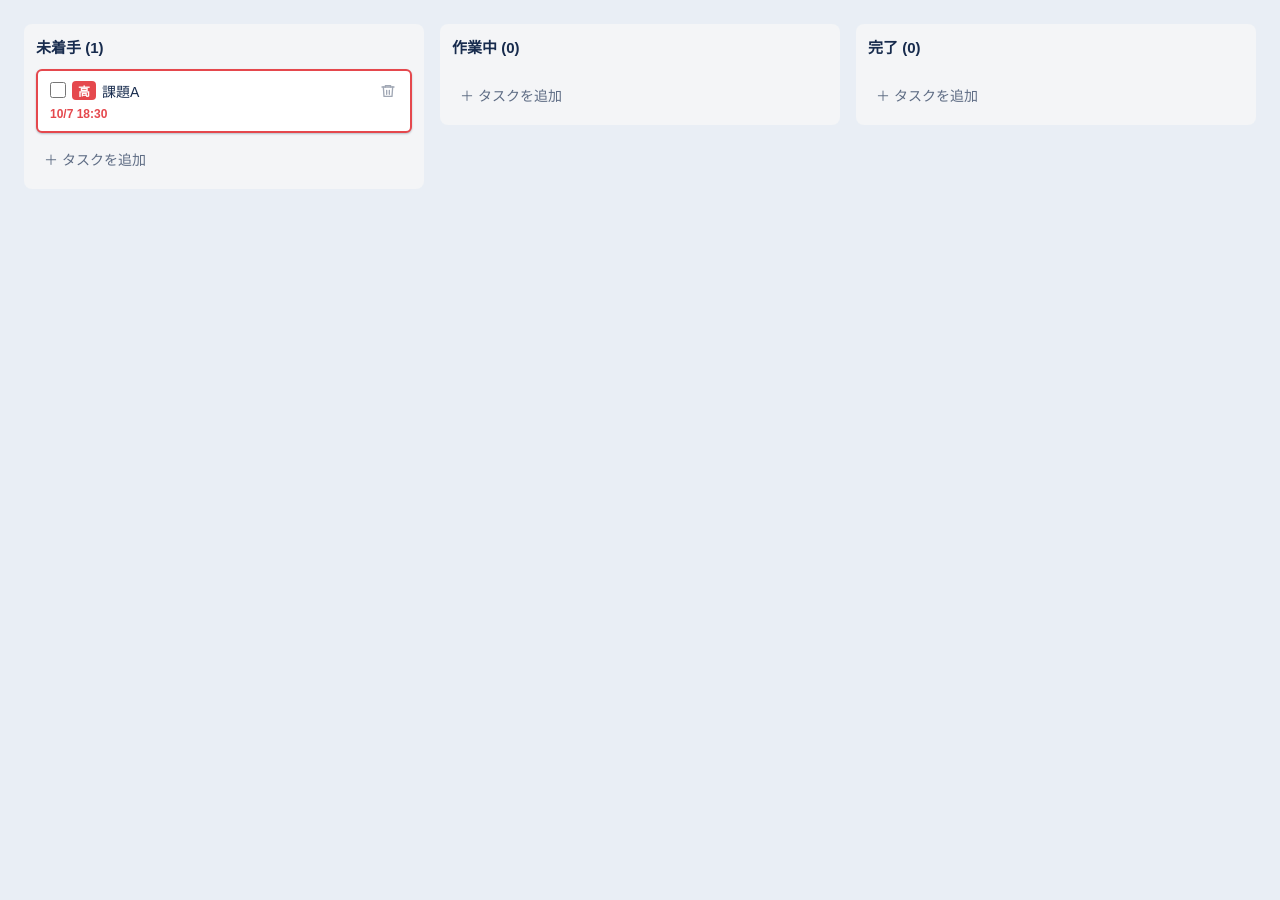
Scenario: 期限を空にして保存すると、期限の欄が表示されなくなる
Click the button with aria-label "課題A を編集".
click(121, 92)  # box [36,69,412,133]
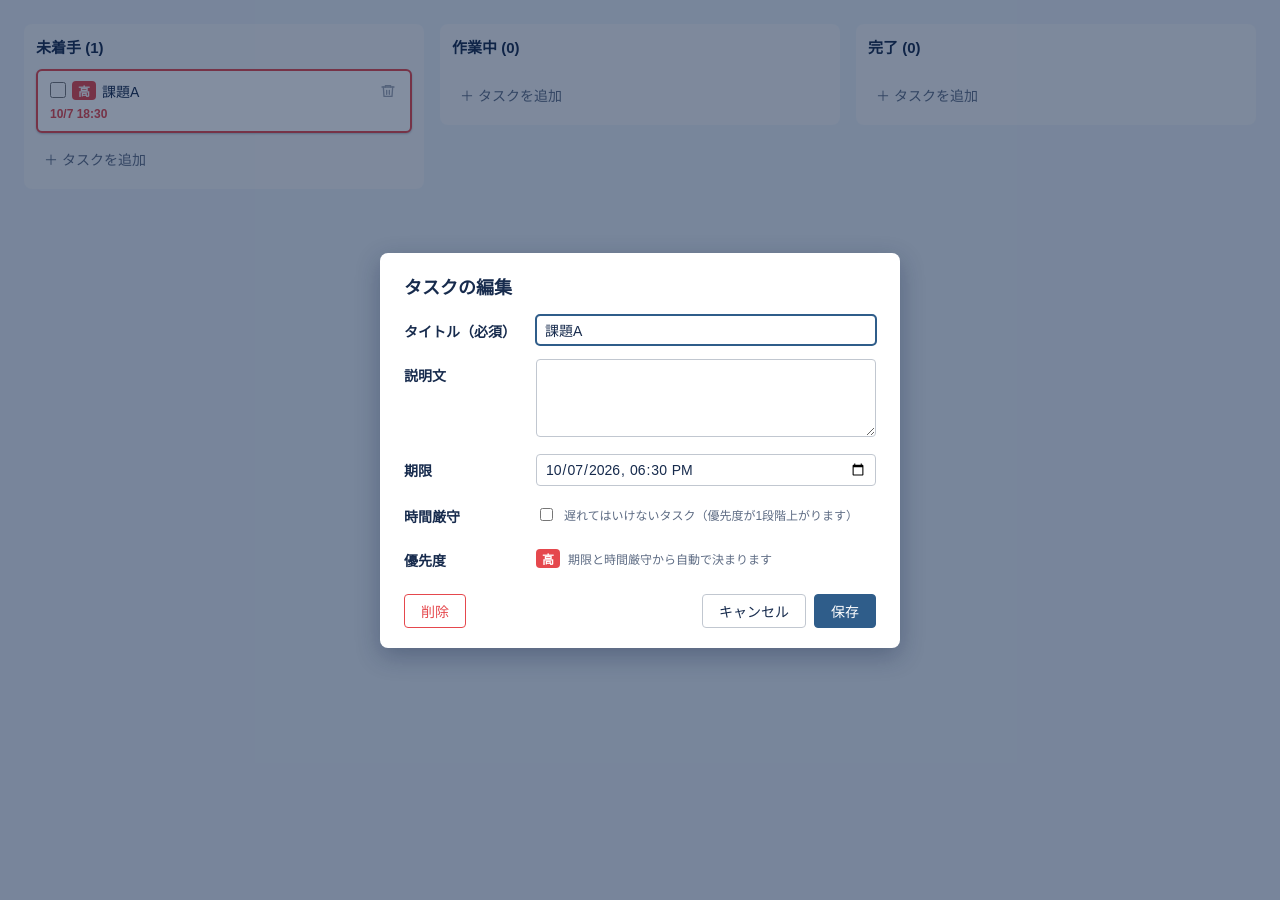
Clear the field labelled "期限" at x=706, y=470, box [536,454,876,486]
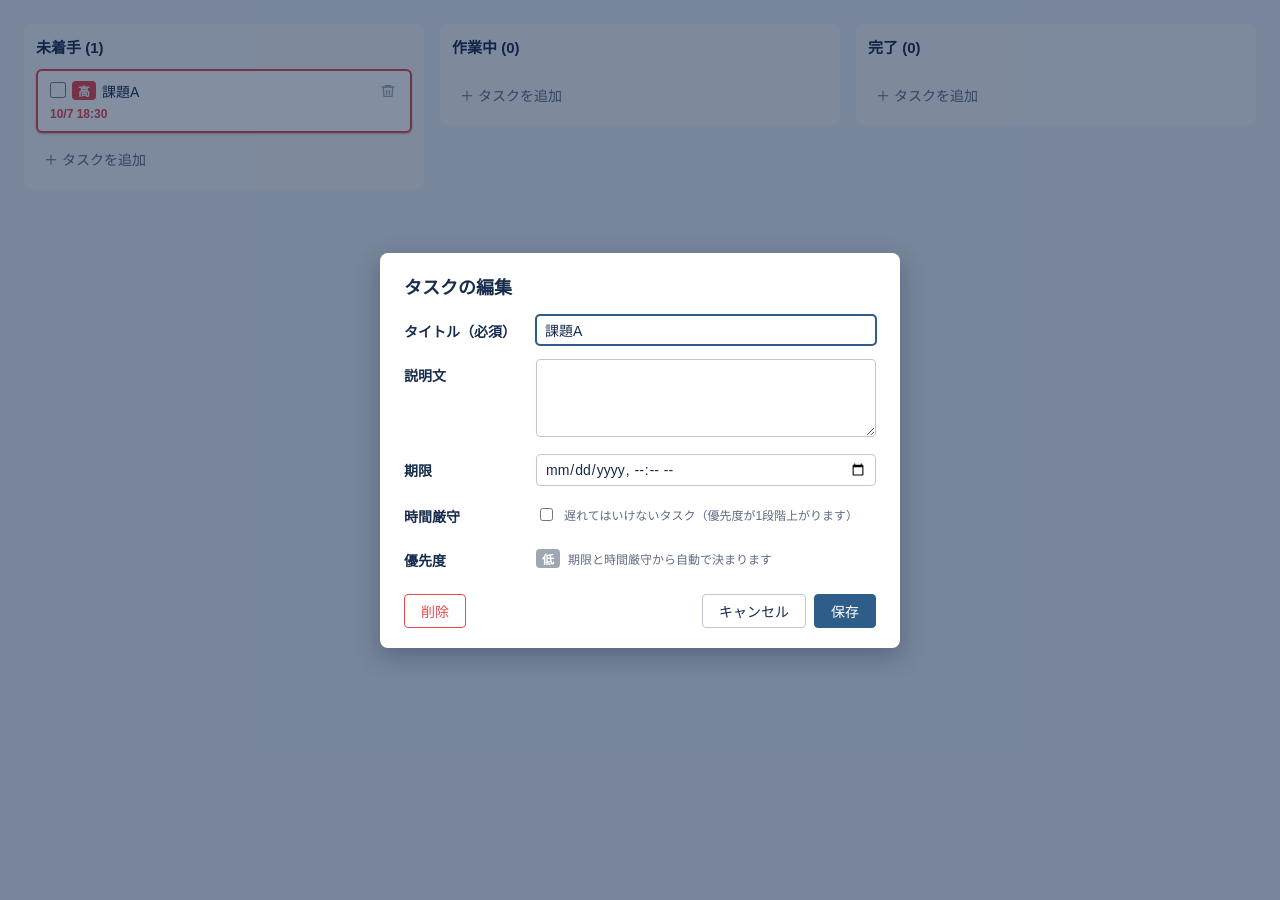
Click the button "保存".
click(845, 610)  # box [814,594,876,628]
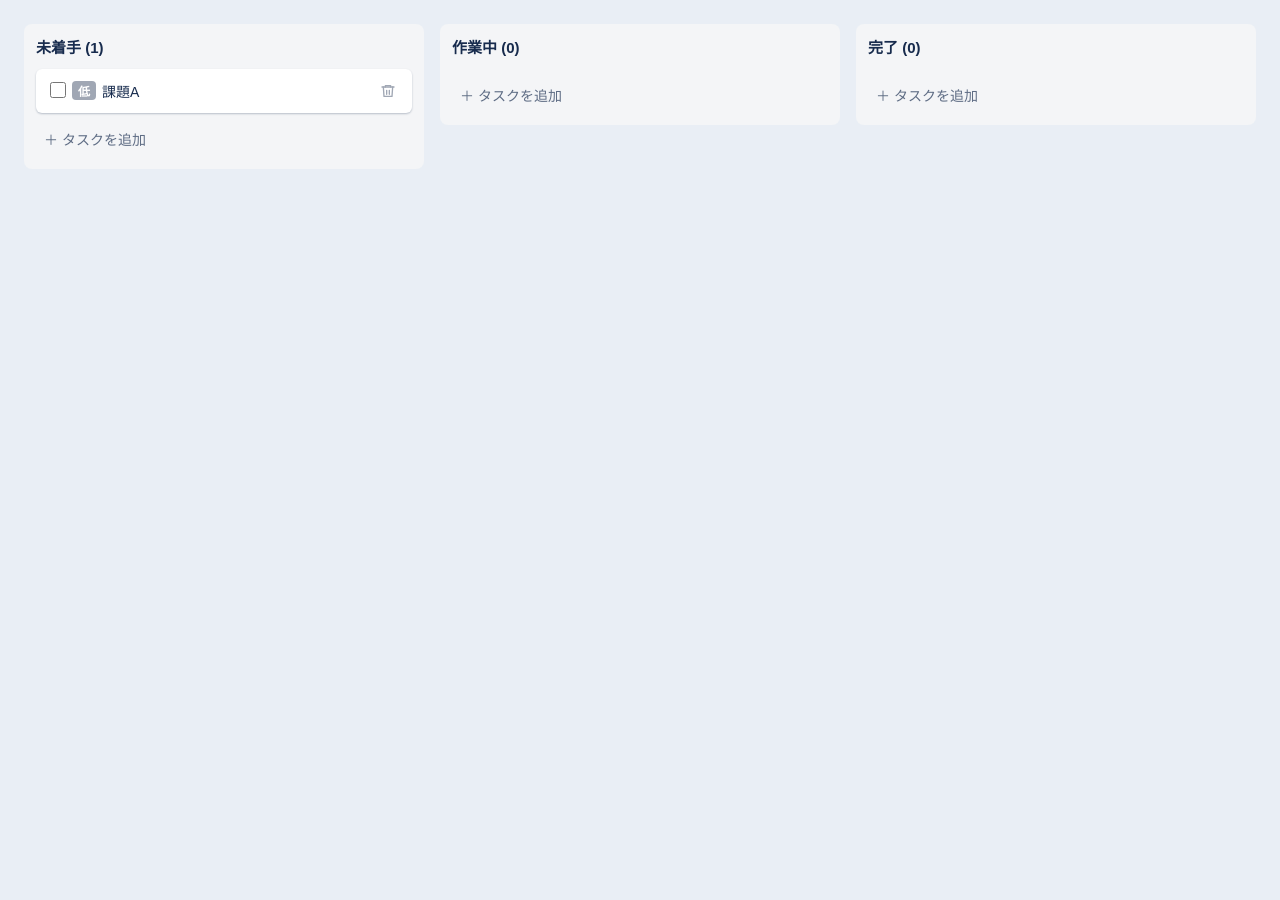
Expected: the text with class "card-due" is gone
